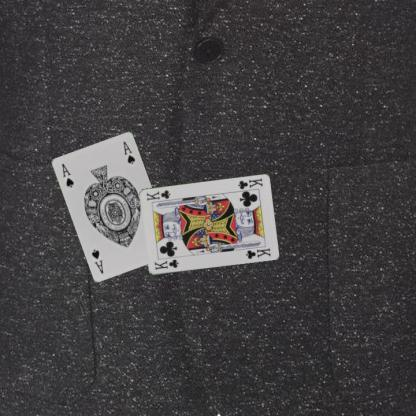As: (59, 161, 75, 189)
Kc: (235, 176, 264, 190), (152, 257, 180, 271)
